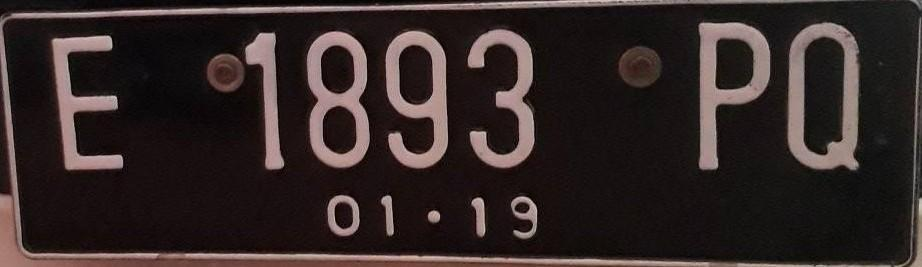clone-license-plate: (1, 8, 912, 266)
